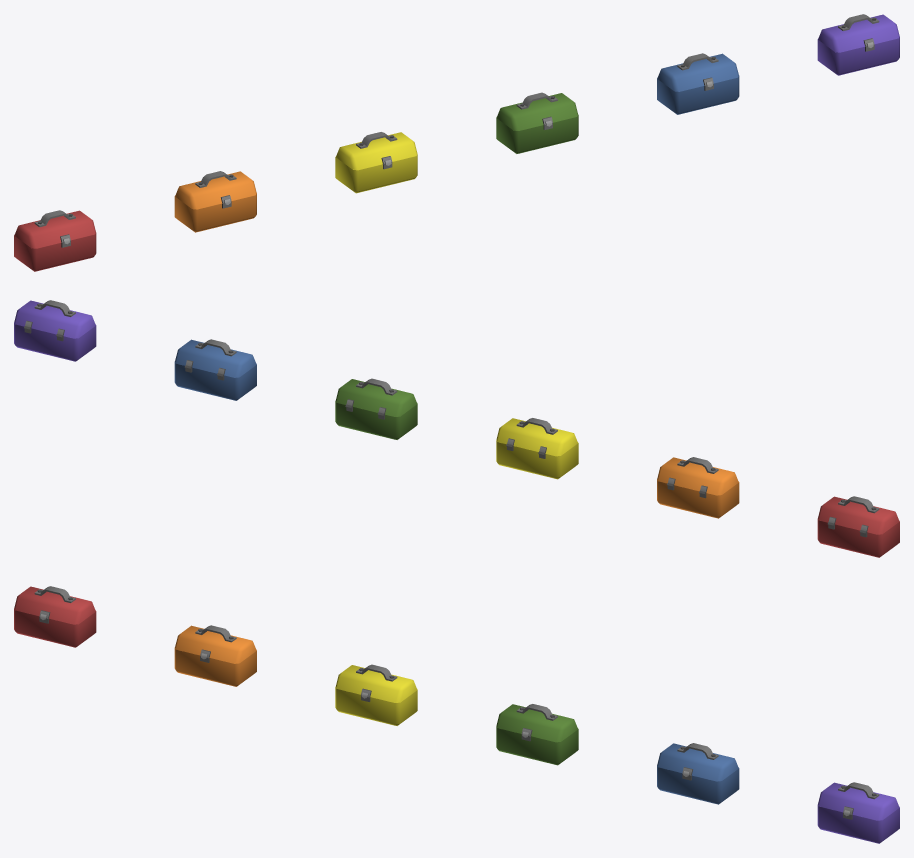
Rendered from toolboxes.fbx.
3 views of the same model, one above another, from view 1: azimuth 30°, elevation 25°; view 2: azimuth 150°, elevation 25°; view 3: azimuth 330°, elevation 25° (orthographic).
Parts seen in each view (by area): view 1: Toolbox Lid Blue, Toolbox Lid Red, Toolbox Lid Purple, Toolbox Lid Yellow, Toolbox Lid Orange, Toolbox Lid Green, Toolbox Bottom Yellow, Toolbox Bottom Blue, Toolbox Bottom Red, Toolbox Bottom Purple, Toolbox Bottom Green, Toolbox Bottom Orange; view 2: Toolbox Lid Red, Toolbox Lid Blue, Toolbox Lid Purple, Toolbox Lid Yellow, Toolbox Lid Orange, Toolbox Lid Green, Toolbox Bottom Red, Toolbox Bottom Blue, Toolbox Bottom Yellow, Toolbox Bottom Purple, Toolbox Bottom Green, Toolbox Bottom Orange; view 3: Toolbox Lid Orange, Toolbox Lid Purple, Toolbox Lid Red, Toolbox Lid Green, Toolbox Lid Yellow, Toolbox Lid Blue, Toolbox Bottom Orange, Toolbox Bottom Green, Toolbox Bottom Purple, Toolbox Bottom Red, Toolbox Bottom Yellow, Toolbox Bottom Blue.
Part boxes in pixels (x1,y1,x2,y2): Toolbox Lid Blue: [657, 53, 738, 91]; Toolbox Lid Red: [14, 210, 95, 248]; Toolbox Lid Purple: [818, 14, 899, 52]; Toolbox Lid Yellow: [336, 132, 417, 170]; Toolbox Lid Orange: [175, 171, 256, 209]; Toolbox Lid Green: [496, 92, 577, 130]; Toolbox Bottom Yellow: [335, 154, 417, 193]; Toolbox Bottom Blue: [657, 75, 739, 114]; Toolbox Bottom Red: [14, 232, 96, 271]; Toolbox Bottom Purple: [817, 36, 899, 75]; Toolbox Bottom Green: [496, 114, 578, 153]; Toolbox Bottom Orange: [174, 193, 256, 232]; Toolbox Lid Red: [818, 496, 899, 534]; Toolbox Lid Blue: [175, 339, 256, 377]; Toolbox Lid Purple: [14, 300, 95, 338]; Toolbox Lid Yellow: [496, 418, 577, 456]; Toolbox Lid Orange: [657, 457, 738, 495]; Toolbox Lid Green: [336, 378, 417, 416]; Toolbox Bottom Red: [817, 518, 899, 557]; Toolbox Bottom Blue: [174, 361, 256, 400]; Toolbox Bottom Yellow: [496, 440, 578, 479]; Toolbox Bottom Purple: [14, 322, 96, 361]; Toolbox Bottom Green: [335, 400, 417, 439]; Toolbox Bottom Orange: [657, 479, 739, 518]; Toolbox Lid Orange: [175, 625, 256, 663]; Toolbox Lid Purple: [818, 782, 899, 820]; Toolbox Lid Red: [14, 586, 95, 624]; Toolbox Lid Green: [496, 704, 577, 742]; Toolbox Lid Yellow: [336, 664, 417, 702]; Toolbox Lid Blue: [657, 743, 738, 781]; Toolbox Bottom Orange: [174, 647, 256, 686]; Toolbox Bottom Green: [496, 726, 578, 765]; Toolbox Bottom Purple: [817, 804, 899, 843]; Toolbox Bottom Red: [14, 608, 96, 647]; Toolbox Bottom Yellow: [335, 686, 417, 725]; Toolbox Bottom Blue: [657, 765, 739, 804].
Bounding box in the file's own units: 5.4 × 0.2655 × 0.2652.
